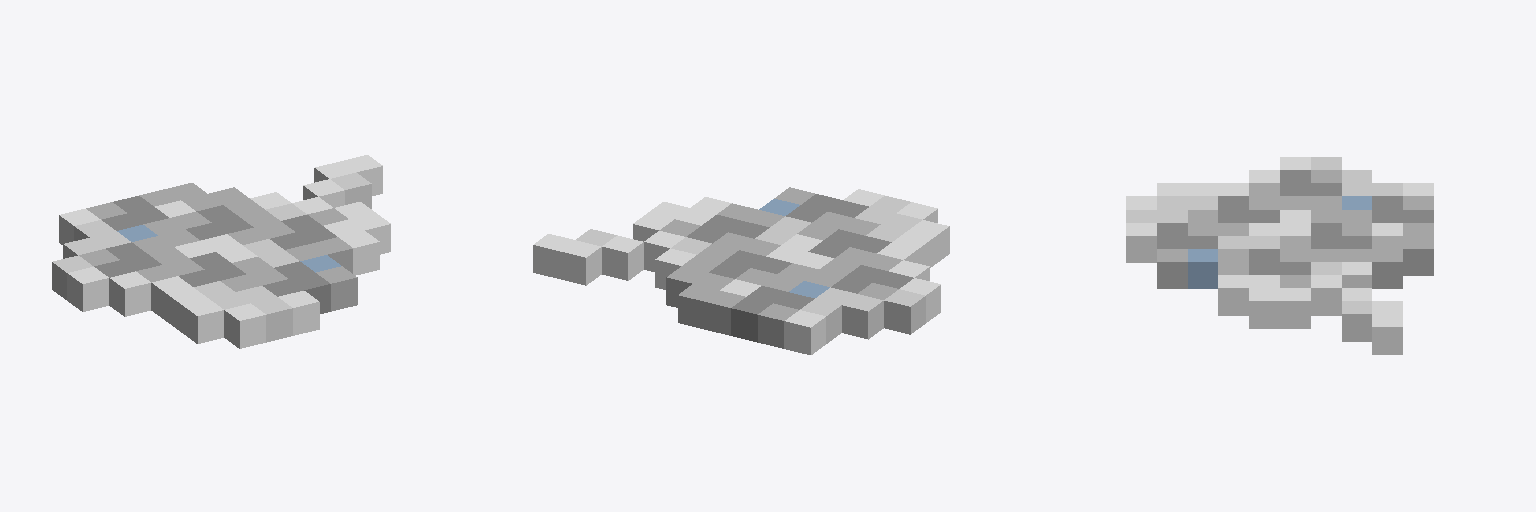
3 renders of one model, left to right at view 1: azimuth 30°, elevation 25°; view 2: azimuth 150°, elevation 25°; view 3: azimuth 270°, elevation 25°, orthographic.
Parts seen in each view (by area): view 1: object 1; view 2: object 1; view 3: object 1.
Part boxes in pixels (x1,y1,x2,y2): object 1: (52,155,390,348); object 1: (533,187,949,354); object 1: (1126,157,1433,354).
Size of the model in its own units: 1.3 by 0.1 by 1.
Materials: 1 (1 with a texture image).